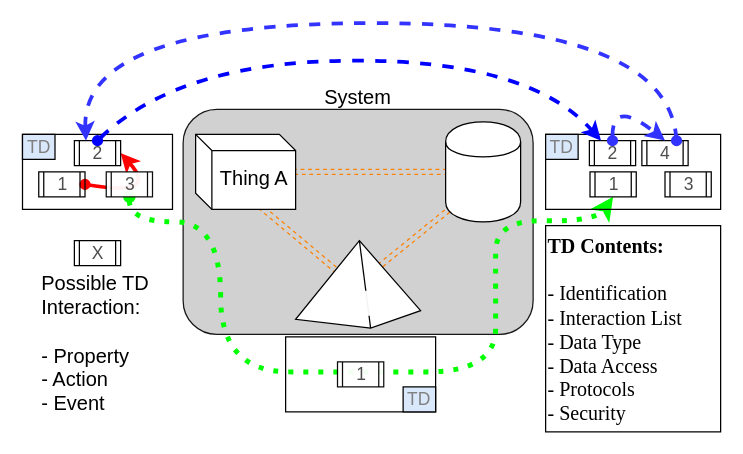
Image size: 743x454. Some labels were removed from this diagram. Each missing label, with the centre of its shape:
"Thing B" belongs at point 482,171.
"Thing C" belongs at point 360,302.
